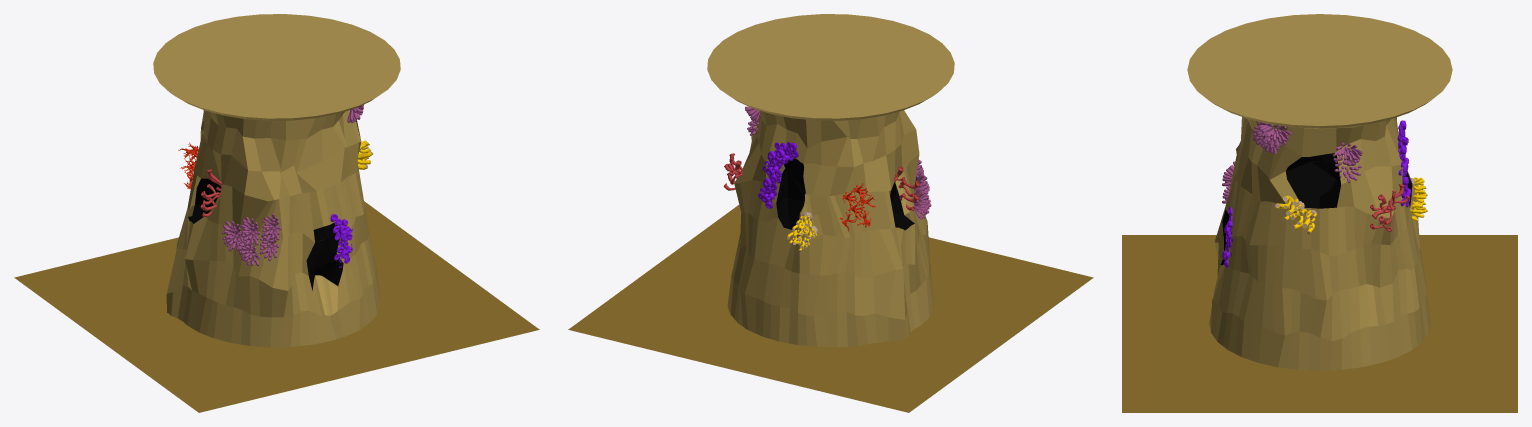
File: underwater.glb
3 views of the same model, side by side, from view 1: azimuth 30°, elevation 25°; view 2: azimuth 150°, elevation 25°; view 3: azimuth 270°, elevation 25° (orthographic). The views are drawn at different scales.
Visible parts, largest first — view 1: Cylinder; view 2: Cylinder; view 3: Cylinder.
Boxes of the visible parts, <box> form: Cylinder: <box>14,14,539,412</box>; Cylinder: <box>568,14,1093,412</box>; Cylinder: <box>1122,14,1517,412</box>.
Bounding box in the file's own units: 43.86 × 30.29 × 41.22.
Materials: 8 (3 with a texture image).
